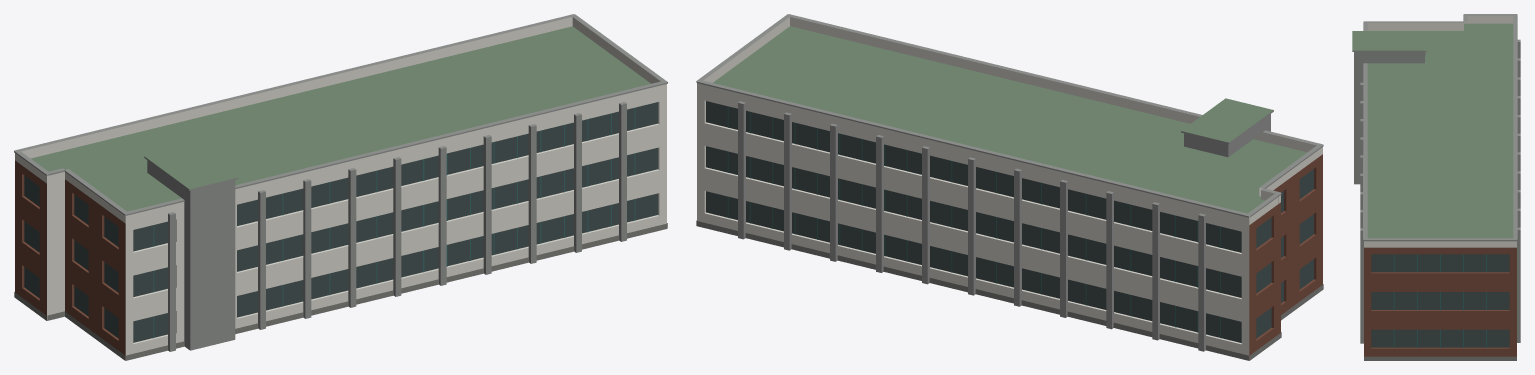
3 renders of one model, left to right at view 1: azimuth 30°, elevation 25°; view 2: azimuth 150°, elevation 25°; view 3: azimuth 270°, elevation 25°, orthographic. The views are drawn at different scales.
Parts seen in each view (by area): view 1: education__roof, education__wall, education__glass, education__trim, education__parapet, education__brickEnd, education__wall2, education__base, education__frame; view 2: education__roof, education__wall, education__glass, education__trim, education__parapet, education__brickEnd, education__base, education__frame, education__wall2; view 3: education__roof, education__brickEnd, education__glass, education__trim, education__parapet, education__wall2, education__base, education__frame.
Boxes of the visible parts, x1,y1,x2,y2 form: education__roof: (31, 26, 650, 360); education__wall: (47, 91, 666, 360); education__glass: (24, 102, 657, 342); education__trim: (14, 14, 667, 351); education__parapet: (15, 17, 666, 223); education__brickEnd: (15, 160, 125, 360); education__wall2: (147, 160, 235, 350); education__base: (14, 223, 667, 360); education__frame: (153, 107, 635, 338); education__roof: (713, 26, 1306, 360); education__wall: (697, 90, 1249, 360); education__glass: (706, 101, 1313, 342); education__trim: (696, 14, 1323, 351); education__parapet: (697, 17, 1322, 225); education__brickEnd: (1249, 154, 1322, 360); education__base: (696, 220, 1323, 360); education__frame: (727, 106, 1220, 338); education__wall2: (1184, 114, 1270, 157); education__roof: (1352, 23, 1513, 238); education__brickEnd: (1364, 247, 1516, 356); education__glass: (1371, 254, 1509, 347); education__trim: (1352, 14, 1520, 343); education__parapet: (1364, 16, 1516, 247); education__wall2: (1354, 52, 1425, 184); education__base: (1364, 356, 1516, 360); education__frame: (1393, 254, 1486, 347).
Size of the model in its own units: 43.69 by 12.12 by 13.75.
